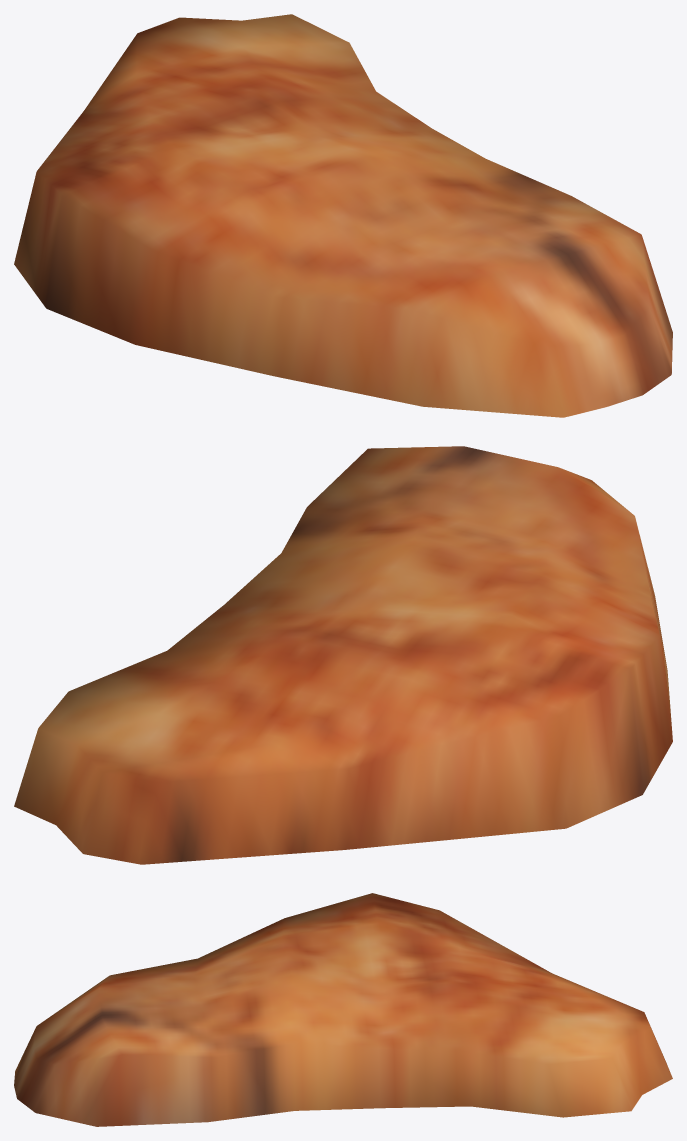
The model's file is fried_chicken_breast.FBX.
3 views of the same model, one above another, from view 1: azimuth 30°, elevation 25°; view 2: azimuth 150°, elevation 25°; view 3: azimuth 270°, elevation 25° (orthographic). The views are drawn at different scales.
Parts seen in each view (by area): view 1: fried_chicken_breast; view 2: fried_chicken_breast; view 3: fried_chicken_breast.
Boxes of the visible parts, left/top/right/bottom form: fried_chicken_breast: left=14, top=14, right=672, bottom=417; fried_chicken_breast: left=14, top=446, right=672, bottom=864; fried_chicken_breast: left=14, top=893, right=672, bottom=1126.
Size of the model in its own units: 13.64 by 3.79 by 23.73.
